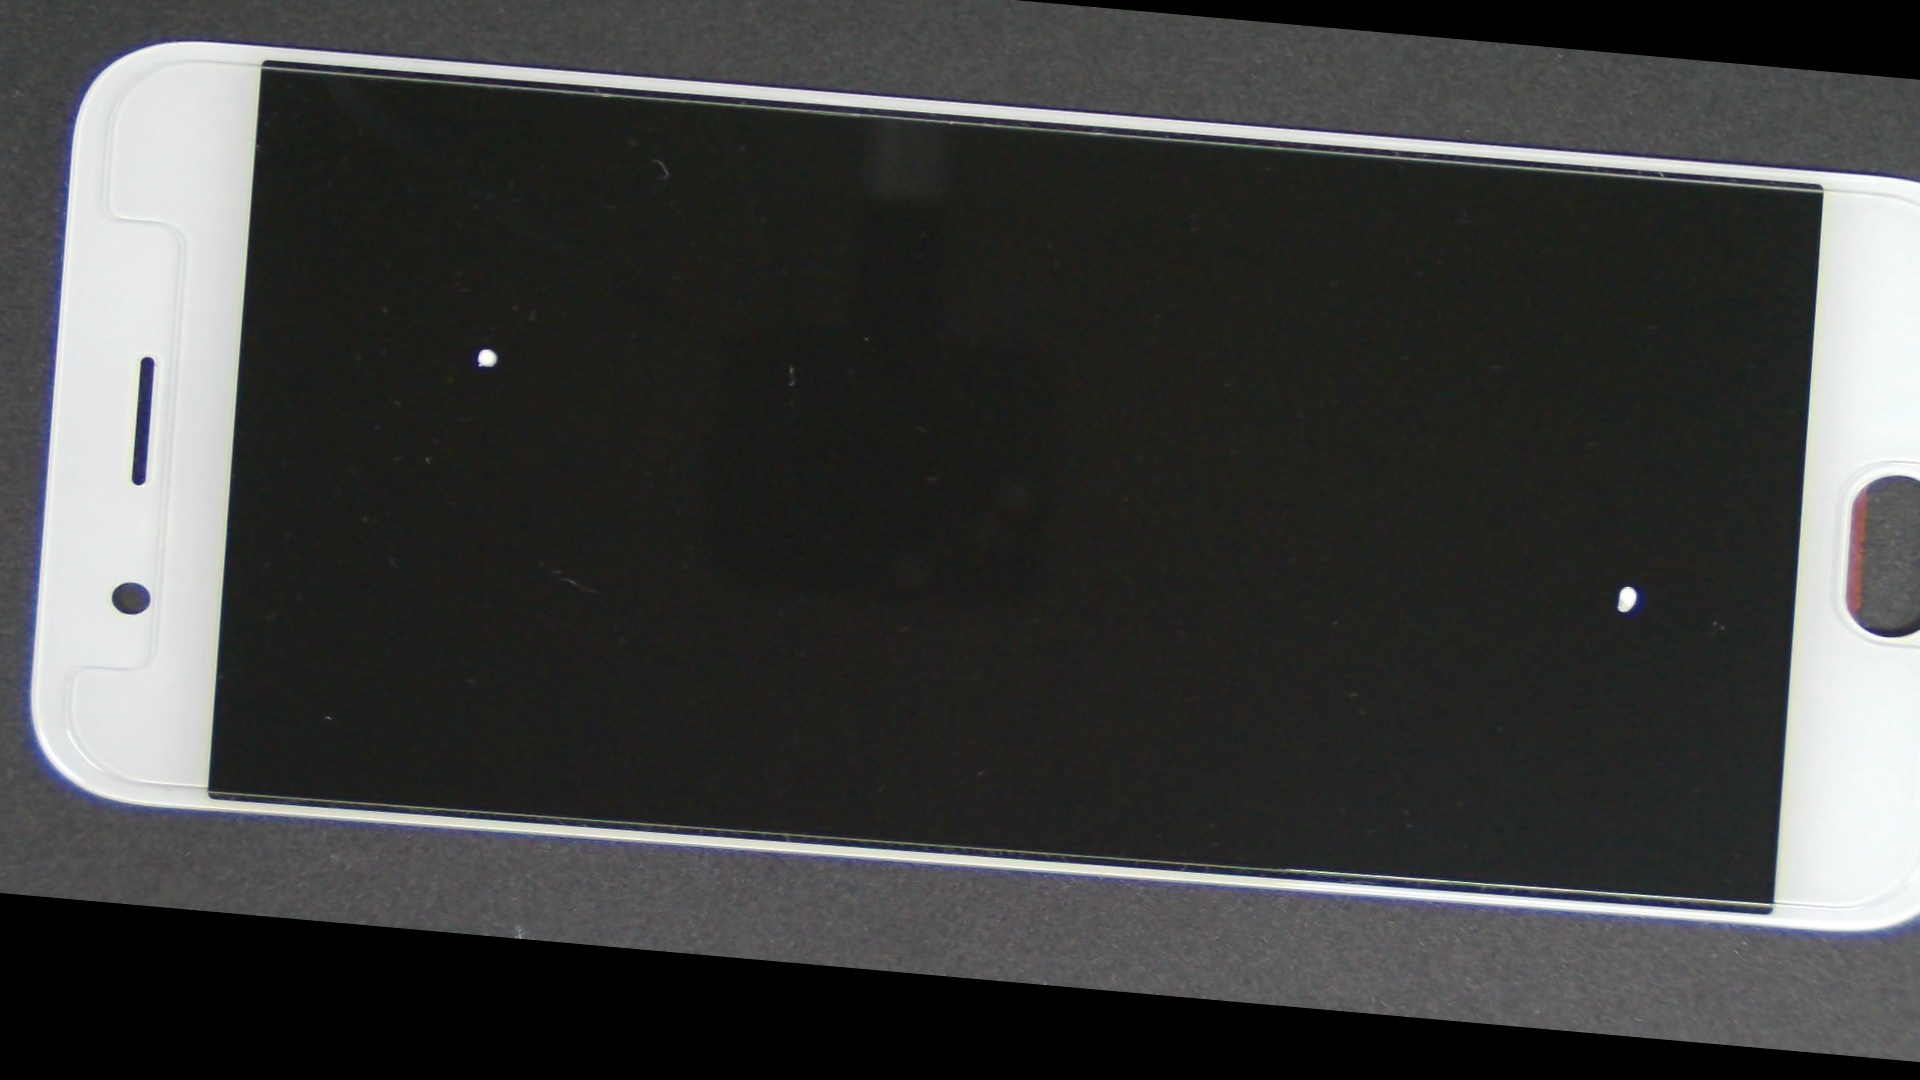oil: (769, 248, 1920, 886), (208, 129, 761, 567)
